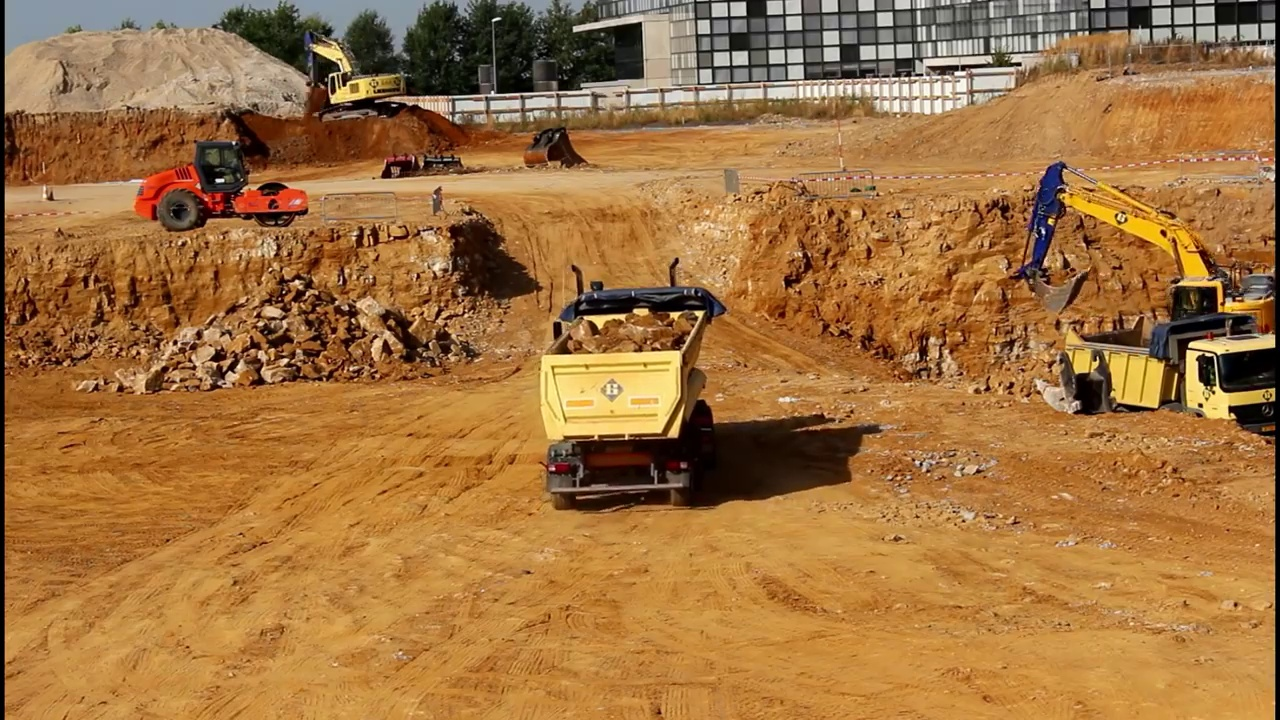compactor: (131, 140, 315, 234)
excavator: (1015, 155, 1280, 396), (299, 24, 415, 123)
truck: (536, 257, 729, 513), (1058, 312, 1280, 457)
